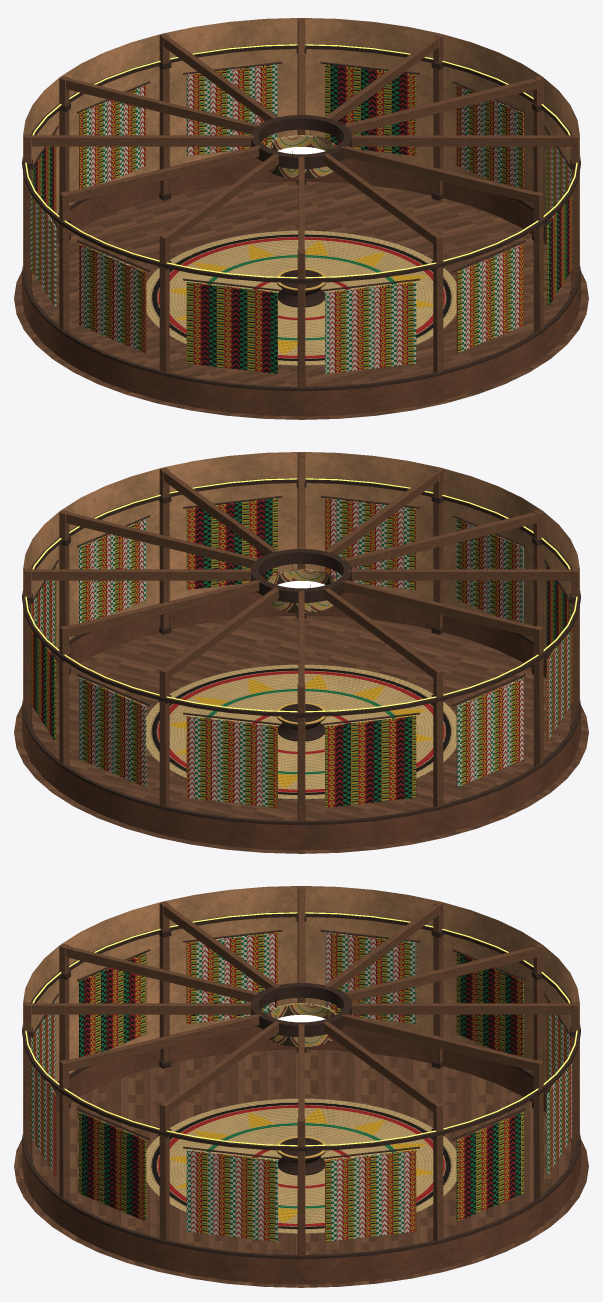
File: DrumCircleRoom.glb
3 renders of one model, top to bottom at view 1: azimuth 30°, elevation 25°; view 2: azimuth 150°, elevation 25°; view 3: azimuth 270°, elevation 25°, orthographic.
Visible parts, largest first — view 1: Hall_Treatment, Hall_Shell, Hall_Beams, Hall_Mat, Hall_Lamp, Globe_Plinth; view 2: Hall_Treatment, Hall_Shell, Hall_Beams, Hall_Mat, Hall_Lamp, Globe_Plinth; view 3: Hall_Treatment, Hall_Shell, Hall_Beams, Hall_Mat, Hall_Lamp, Globe_Plinth.
Boxes of the visible parts, x1,y1,x2,y2 form: Hall_Treatment: [22, 18, 580, 416]; Hall_Shell: [14, 18, 588, 419]; Hall_Beams: [31, 22, 571, 262]; Hall_Mat: [146, 230, 456, 365]; Hall_Lamp: [266, 122, 336, 178]; Globe_Plinth: [276, 268, 326, 307]; Hall_Treatment: [22, 452, 580, 850]; Hall_Shell: [14, 452, 588, 853]; Hall_Beams: [31, 456, 571, 696]; Hall_Mat: [146, 664, 456, 799]; Hall_Lamp: [266, 556, 336, 612]; Globe_Plinth: [276, 702, 326, 741]; Hall_Treatment: [22, 886, 580, 1284]; Hall_Shell: [14, 886, 588, 1287]; Hall_Beams: [31, 890, 571, 1129]; Hall_Mat: [146, 1098, 456, 1233]; Hall_Lamp: [266, 994, 336, 1046]; Globe_Plinth: [276, 1136, 326, 1175].
Bounding box in the file's own units: 12.8 × 4 × 12.8.
Materials: 15 (10 with a texture image).
